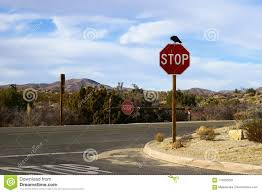Stop: (156, 31, 202, 80)
